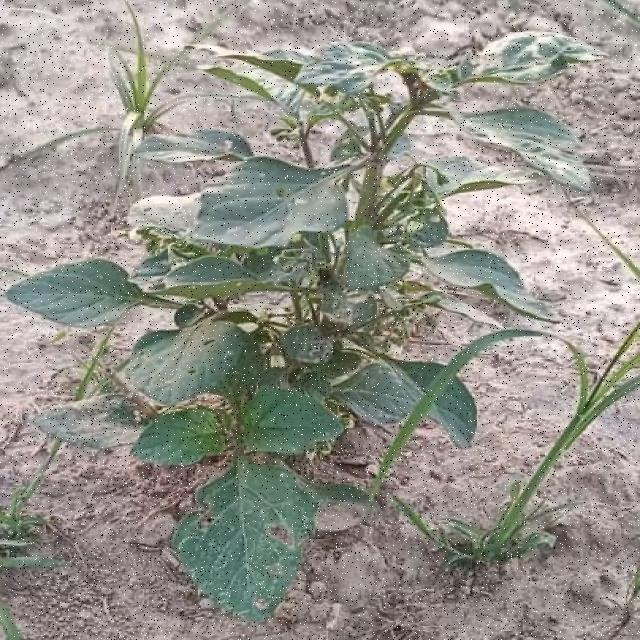weed: (6, 32, 600, 622)
